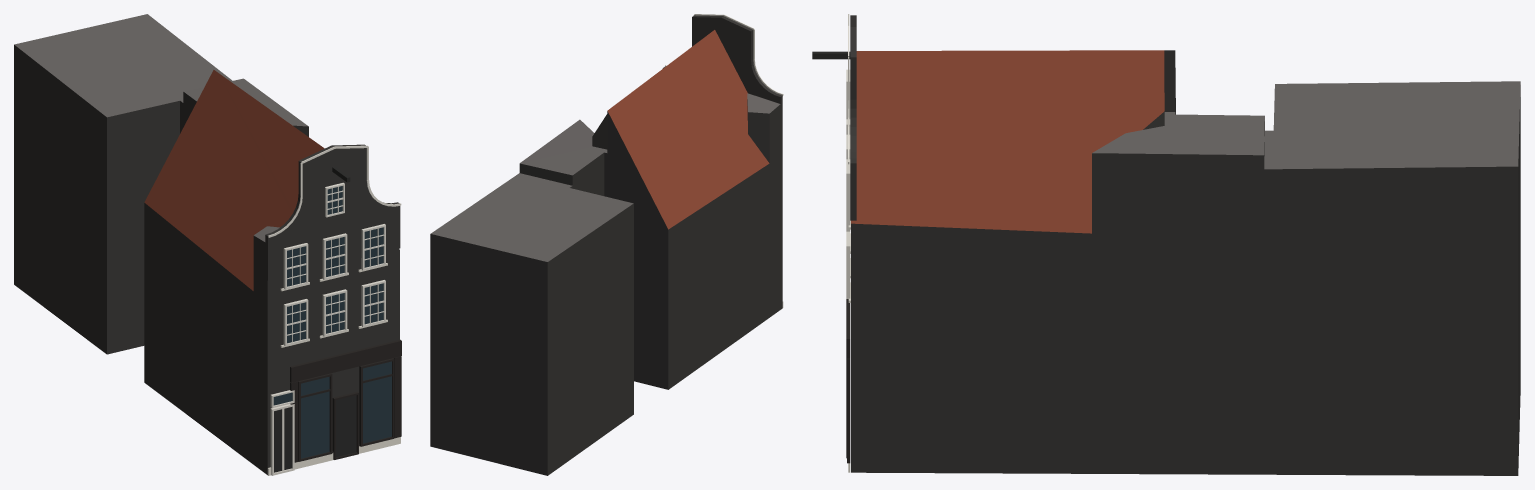
The picture shows the model from 3 angles, left to right: view 1: azimuth 30°, elevation 25°; view 2: azimuth 150°, elevation 25°; view 3: azimuth 270°, elevation 25°; orthographic projection. The views are drawn at different scales.
Parts seen in each view (by area): view 1: spec-0363100012177659; view 2: spec-0363100012177659; view 3: spec-0363100012177659.
Boxes of the visible parts, x1,y1,x2,y2 form: spec-0363100012177659: (14, 14, 401, 475); spec-0363100012177659: (430, 14, 783, 475); spec-0363100012177659: (812, 14, 1520, 475).
Size of the model in its own units: 5.88 by 12.77 by 20.22.
